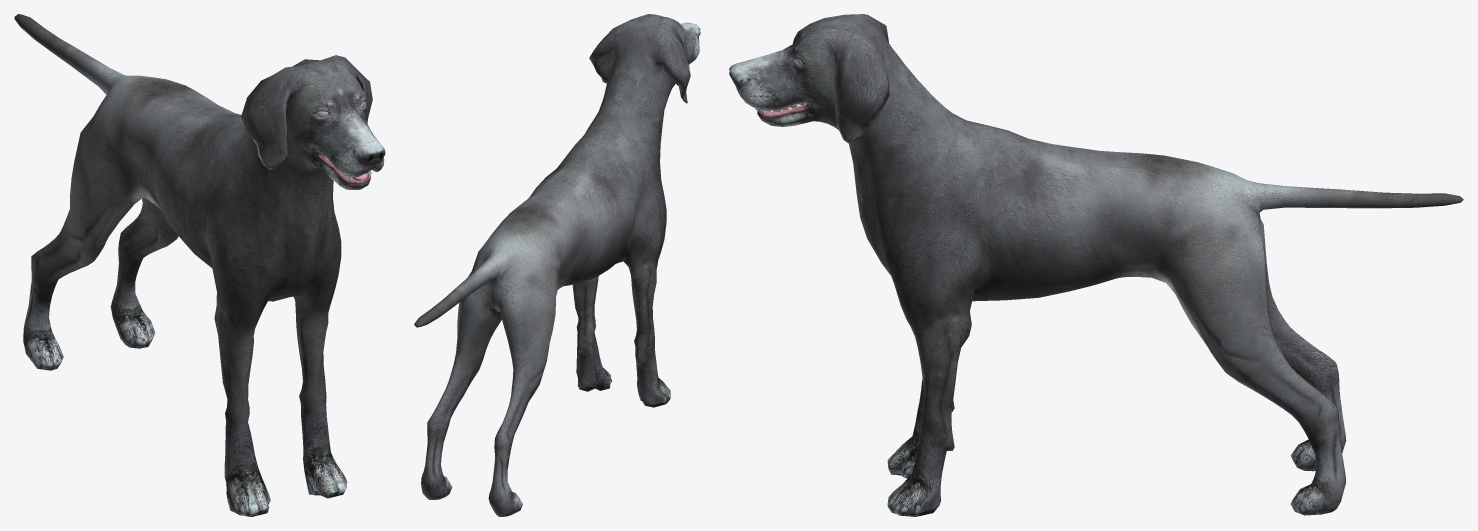
The model's file is dog.obj.
3 renders of one model, left to right at view 1: azimuth 30°, elevation 25°; view 2: azimuth 150°, elevation 25°; view 3: azimuth 270°, elevation 25°, orthographic. The views are drawn at different scales.
Parts seen in each view (by area): view 1: DogBody; view 2: DogBody; view 3: DogBody.
Part boxes in pixels (box(x1,y1,x2,y2)): DogBody: box(14, 14, 385, 516); DogBody: box(414, 14, 700, 516); DogBody: box(729, 14, 1463, 516).
Size of the model in its own units: 0.5892 by 2.1 by 2.99.
